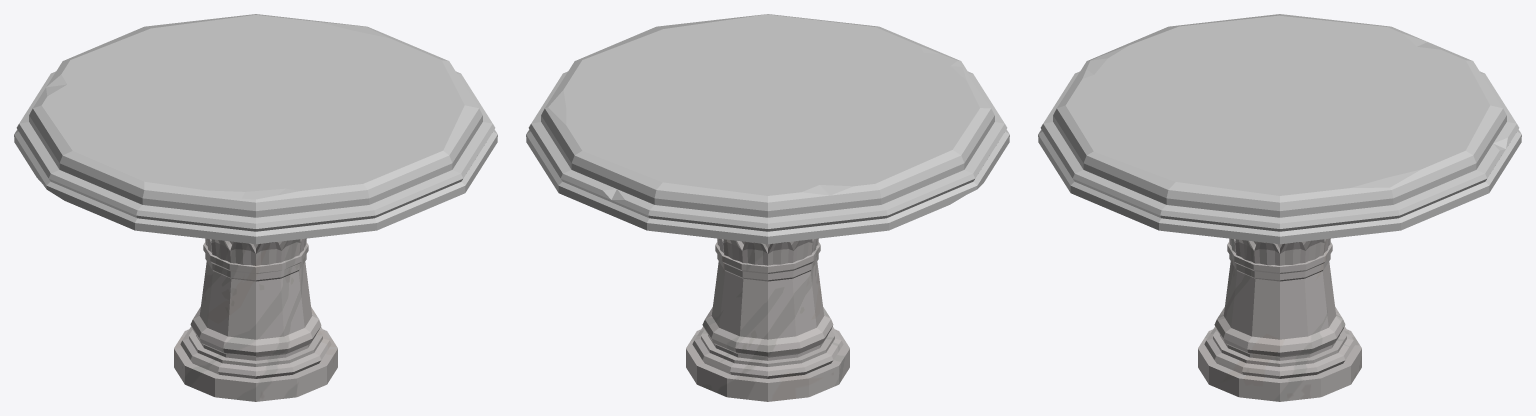
Rendered from SM_Prop_Table_02.fbx.
3 views of the same model, side by side, from view 1: azimuth 30°, elevation 25°; view 2: azimuth 150°, elevation 25°; view 3: azimuth 270°, elevation 25° (orthographic).
Visible parts, largest first — view 1: SM_Prop_Table_02; view 2: SM_Prop_Table_02; view 3: SM_Prop_Table_02.
Part boxes in pixels (left/top/right/bottom): SM_Prop_Table_02: left=14, top=14, right=497, bottom=401; SM_Prop_Table_02: left=526, top=14, right=1009, bottom=401; SM_Prop_Table_02: left=1038, top=14, right=1521, bottom=401.
Bounding box in the file's own units: 130 × 77.75 × 130.
